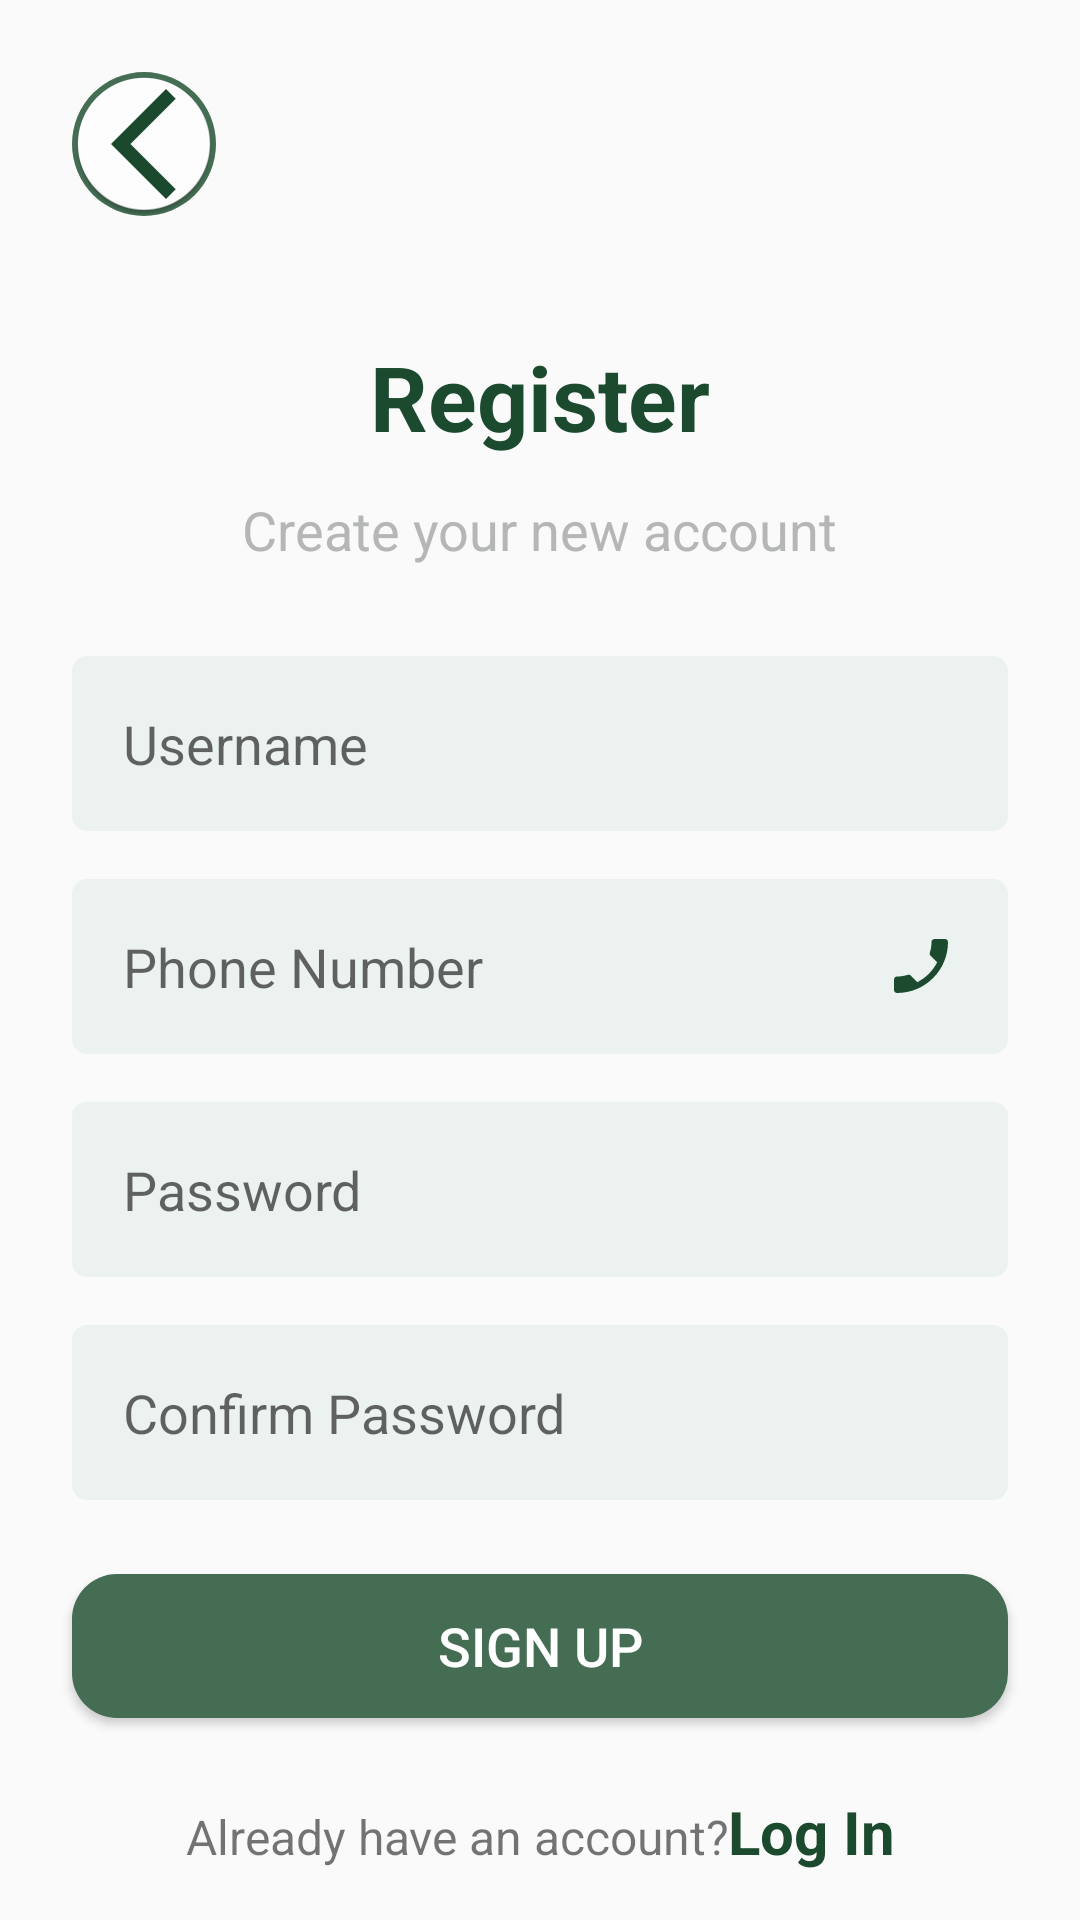

Point at icon controls on the screen. Image size 1080*1920, points as (x=x, y=y).
back: (x=144, y=144)
